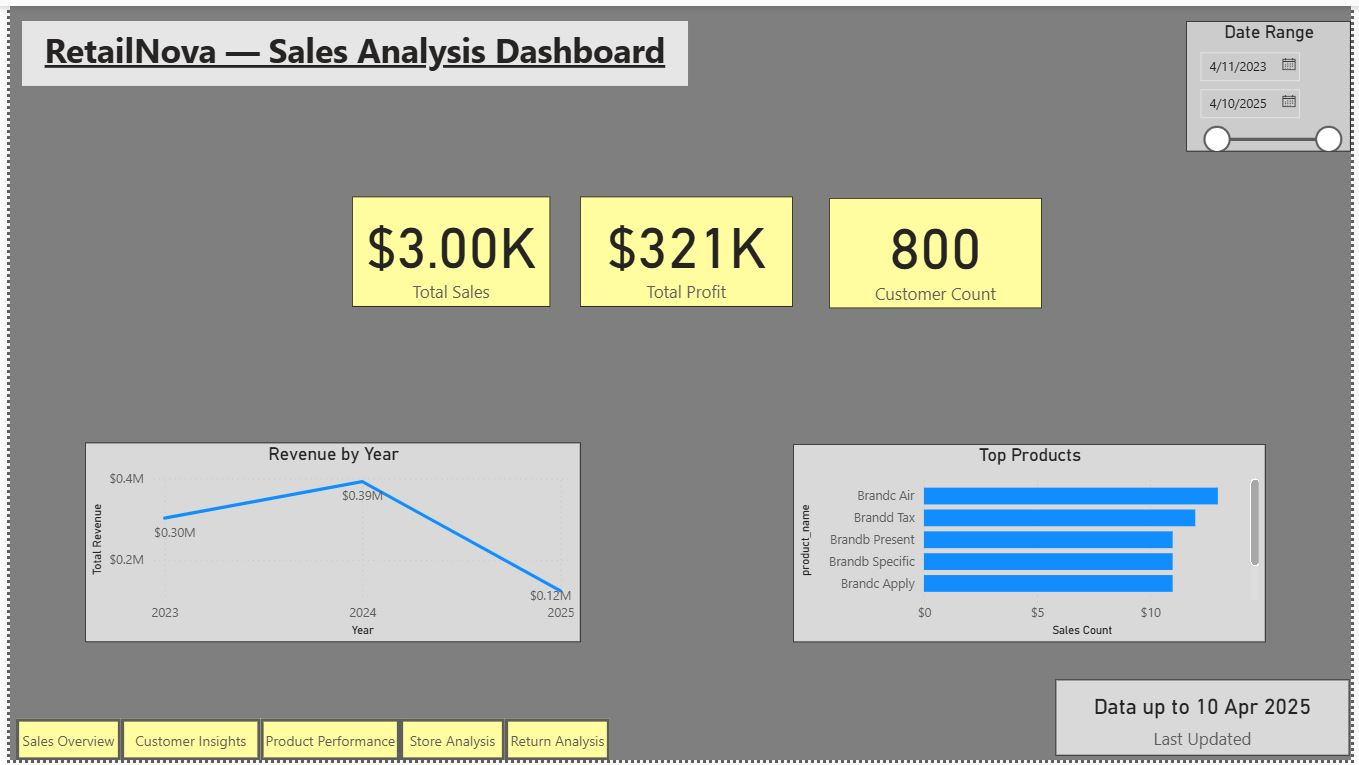

Layout of this report page (visuals, bound fields, positions):
{"tool":"powerbi","page":{"name":"Dashboard","canvas":[1280,720],"ordinal":0},"visuals":[{"type":"card","fields":{"Values":["sales_cleaned.Total Profit"]},"box":[544.4,181.5,203.2,105.5],"z":0},{"type":"card","fields":{"Values":["customers_cleaned.Sales Count","select"]},"box":[327.2,181.5,189.2,105.5],"z":1000},{"type":"textbox","box":[10.9,14,635.9,62],"z":2000},{"type":"slicer","title":"Date Range","fields":{"Values":["sales_cleaned.order_date"]},"box":[1123,14.3,157.6,124.6],"z":3000},{"type":"card","fields":{"Values":["customers_cleaned.Customer Count"]},"box":[781.7,183,203.2,105.5],"z":4000},{"type":"actionButton","box":[5.7,680.4,100.3,40.1],"z":5000},{"type":"actionButton","box":[106,680.4,133.2,40.1],"z":6000},{"type":"actionButton","box":[239.2,680.4,133.2,40.1],"z":7000},{"type":"actionButton","box":[372.4,680.4,100.3,40.1],"z":8000},{"type":"actionButton","box":[472.7,680.4,100.3,40.1],"z":9000},{"type":"lineChart","title":"Revenue by Year","fields":{"Category":["sales_cleaned.order_date.Variation.Date Hierarchy.Year","sales_cleaned.order_date.Variation.Date Hierarchy.Month"],"Y":["sales_cleaned.Total Revenue"]},"box":[71.3,417.2,473,190.8],"z":10000},{"type":"clusteredBarChart","title":"Top Products","fields":{"Category":["products_cleaned.product_name"],"Y":["customers_cleaned.Sales Count"]},"box":[747.5,418.7,451.3,189.2],"z":11000},{"type":"card","fields":{"Values":["stores_cleaned.Last Updated"]},"box":[998.8,643.6,280.7,72.9],"z":12000}]}

Visuals, with their boxes in screenshot pixels (x1, y1, x2, y2), scaled from the page's 1280x720 canvas onto the 1359x765 screenshot:
card - sales_cleaned.Total Profit: crop(578, 193, 794, 305)
card - customers_cleaned.Sales Count x select: crop(347, 193, 548, 305)
textbox: crop(12, 15, 687, 81)
"Date Range" slicer: crop(1192, 15, 1358, 148)
card - customers_cleaned.Customer Count: crop(830, 194, 1046, 307)
actionButton: crop(6, 723, 113, 764)
actionButton: crop(113, 723, 254, 764)
actionButton: crop(254, 723, 395, 764)
actionButton: crop(395, 723, 502, 764)
actionButton: crop(502, 723, 608, 764)
"Revenue by Year" lineChart: crop(76, 443, 578, 646)
"Top Products" clusteredBarChart: crop(794, 445, 1273, 646)
card - stores_cleaned.Last Updated: crop(1060, 684, 1358, 761)
